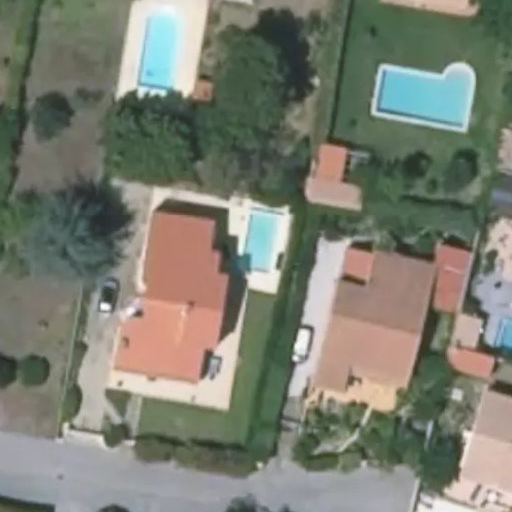pool: (370, 61, 478, 134), (136, 9, 182, 94), (240, 206, 283, 278)
